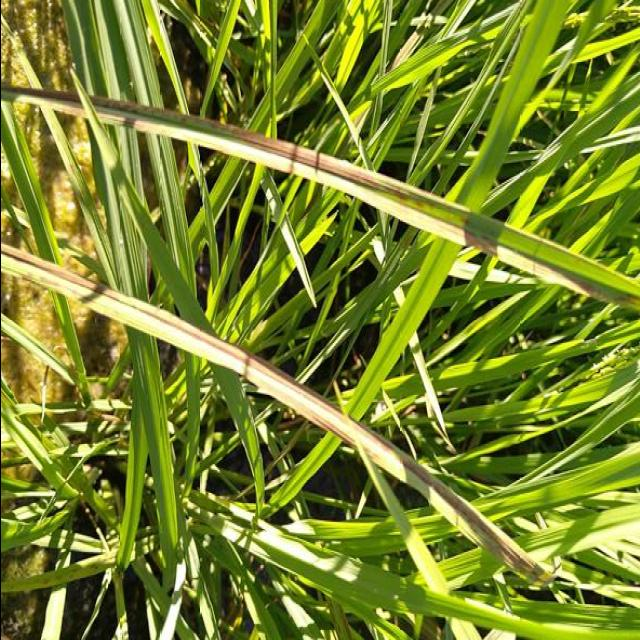Leaf Streak: (0, 244, 520, 562), (0, 83, 640, 304)
